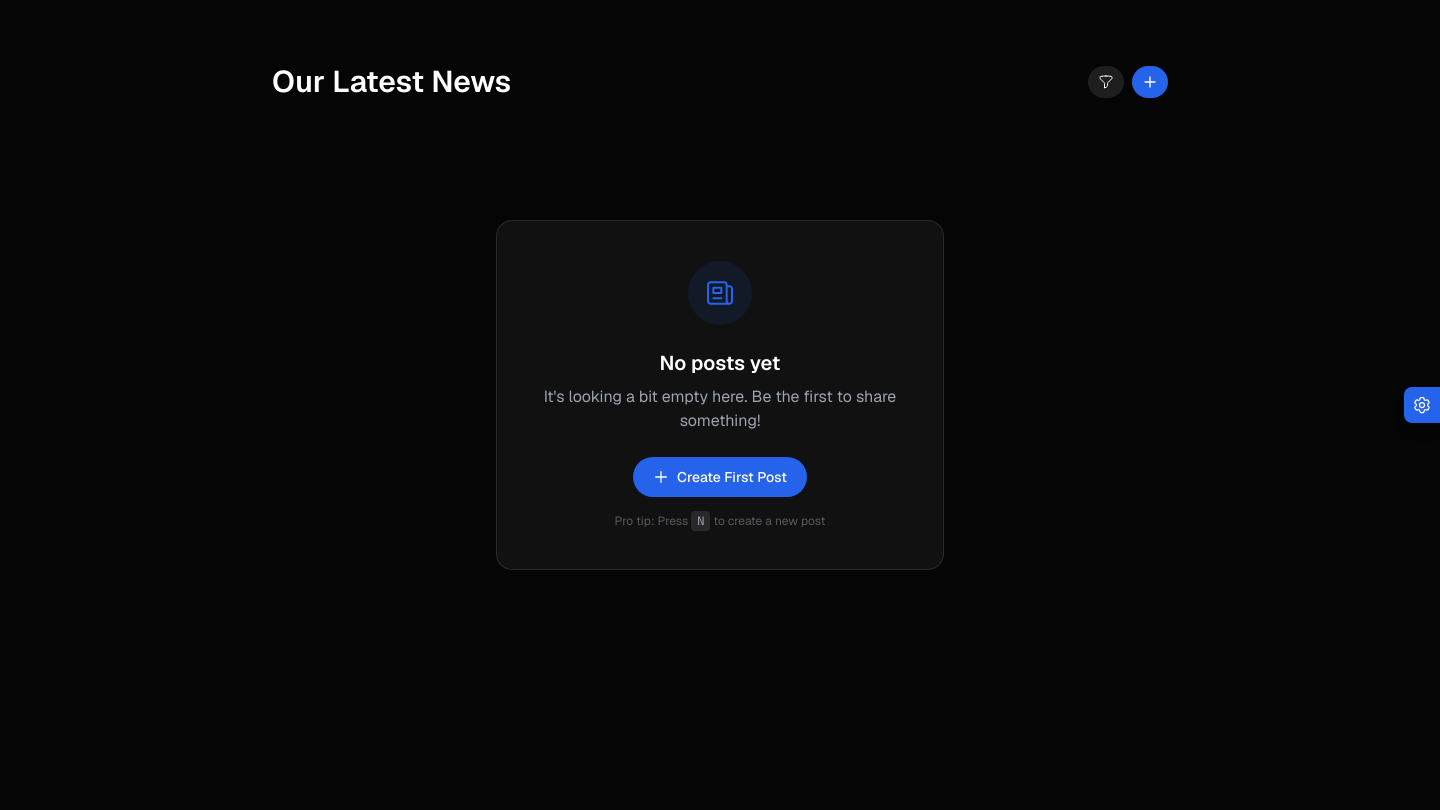
it: Posts Page › Empty State › should open create modal when clicking create first post button
Click the button "Create First Post" at (720, 477), box [633, 457, 807, 497]
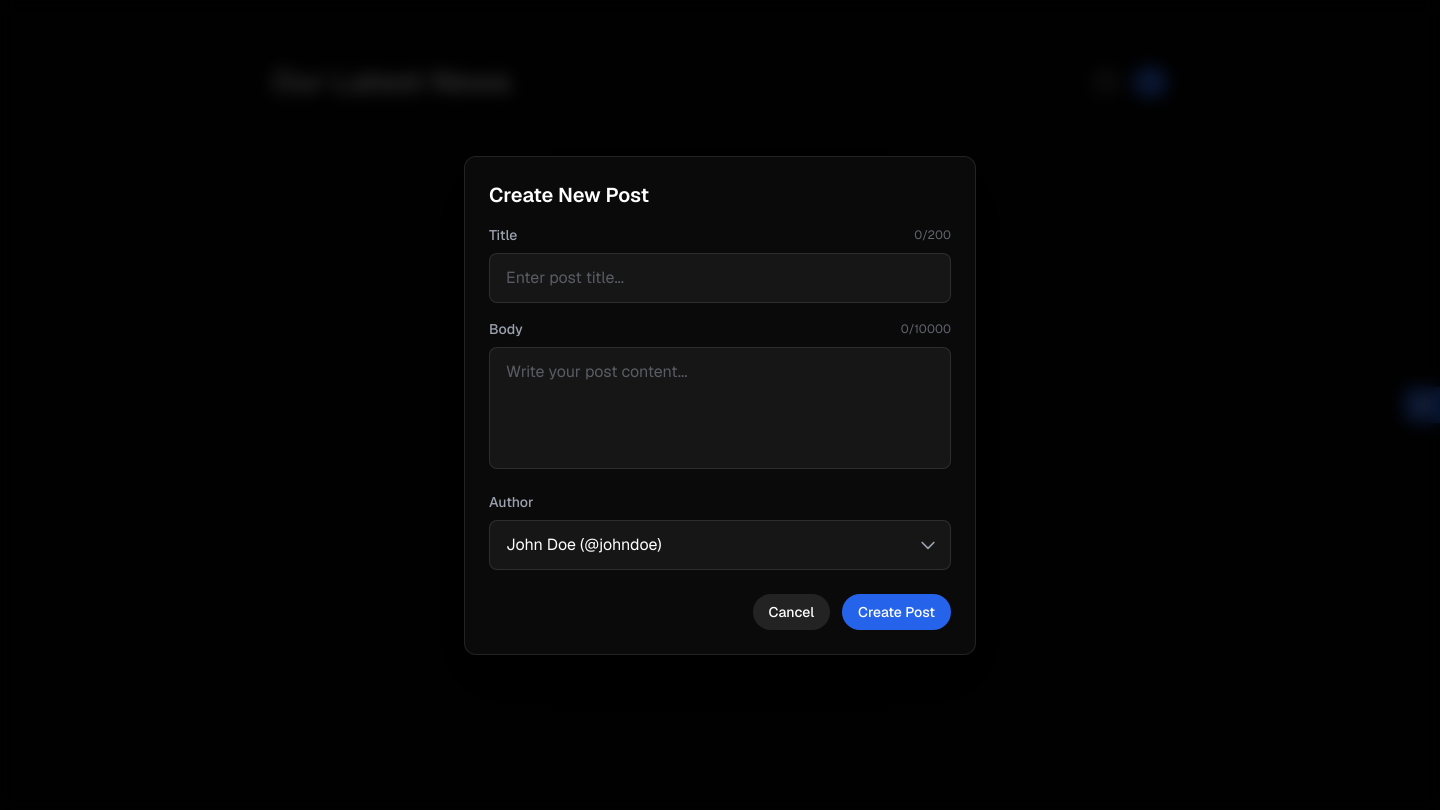
Expected: the heading "Create New Post" is shown, [489, 182, 649, 208]
